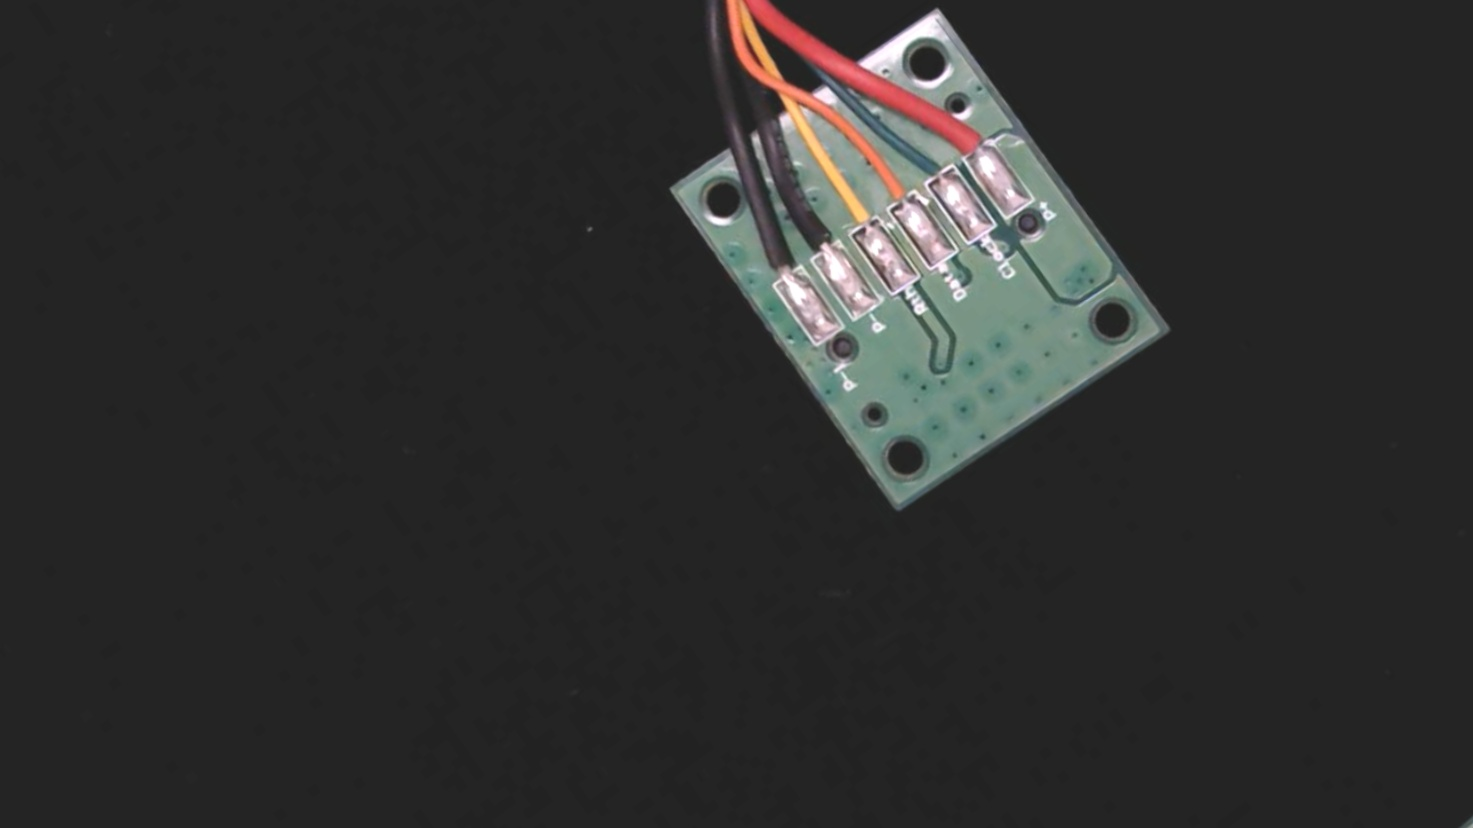Black: (771, 189, 858, 283)
Black1: (735, 219, 817, 307)
Green: (889, 123, 974, 214)
Orange: (849, 139, 933, 230)
Red: (924, 95, 1009, 185)
Yellow: (806, 161, 893, 255)
